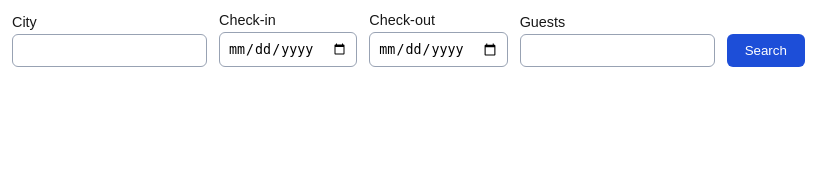
Test: SearchForm › clears an earlier error once a valid search is submitted
Click the button "Search" at (766, 51), box [727,34,805,67]
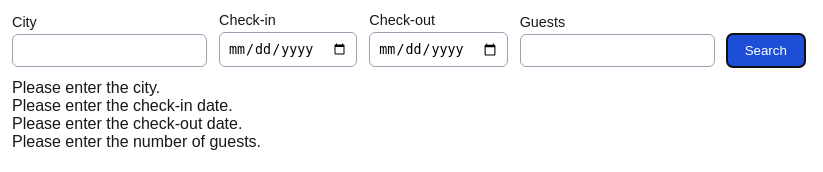
Check: the message is shown, box [12,79,261,151]
Type "Hanoi" into the field labelled "City" at (110, 51), box [12,34,207,67]
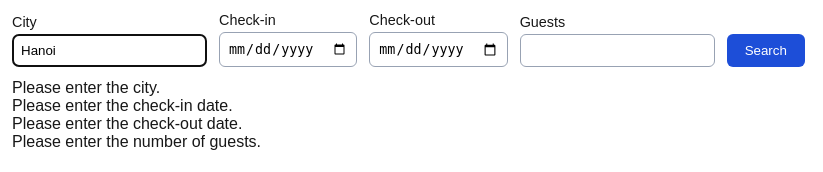
Type "2026-12-01" into the date field labelled "Check-in" at (288, 50), box [219,32,357,67]
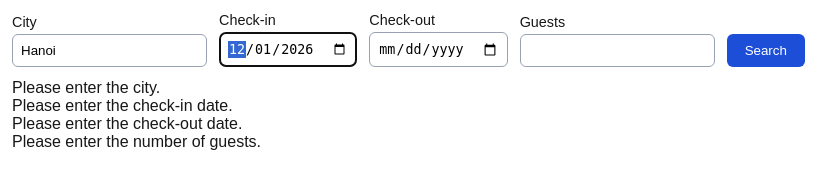
Type "2026-12-03" into the date field labelled "Check-out" at (438, 50), box [369,32,508,67]
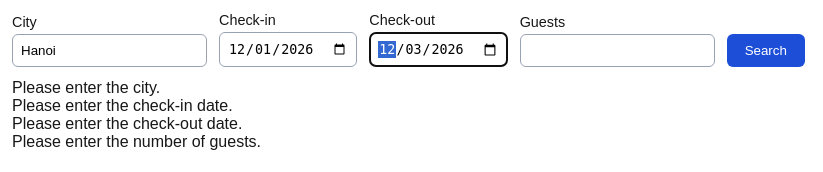
Type "2" into the field labelled "Guests" at (617, 51), box [520,34,715,67]
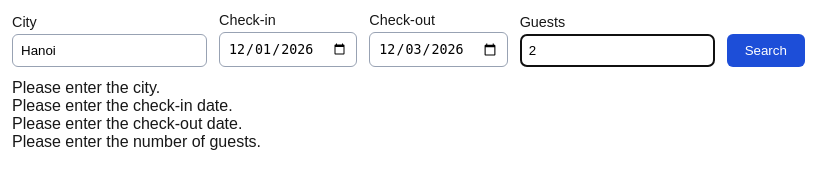
Click the button "Search" at (766, 51), box [727,34,805,67]
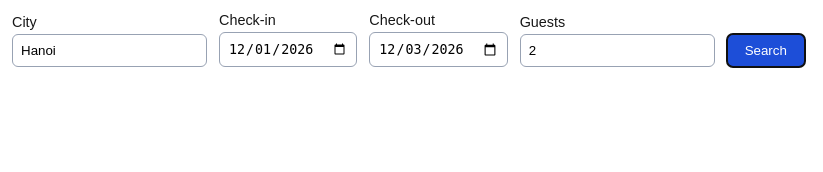
Check: the message is gone
